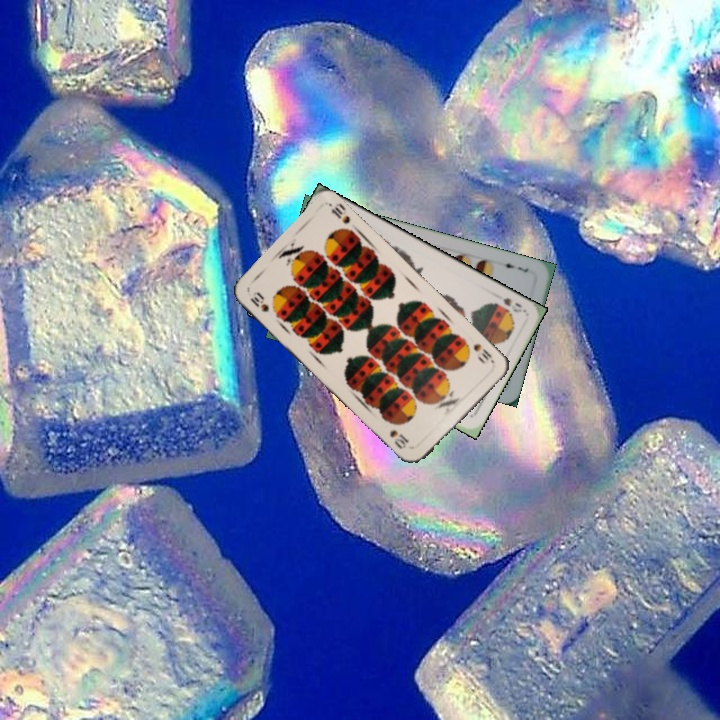E7: (497, 258, 531, 275)
S10: (246, 288, 272, 315), (469, 339, 494, 363)
SO: (499, 294, 528, 316)
